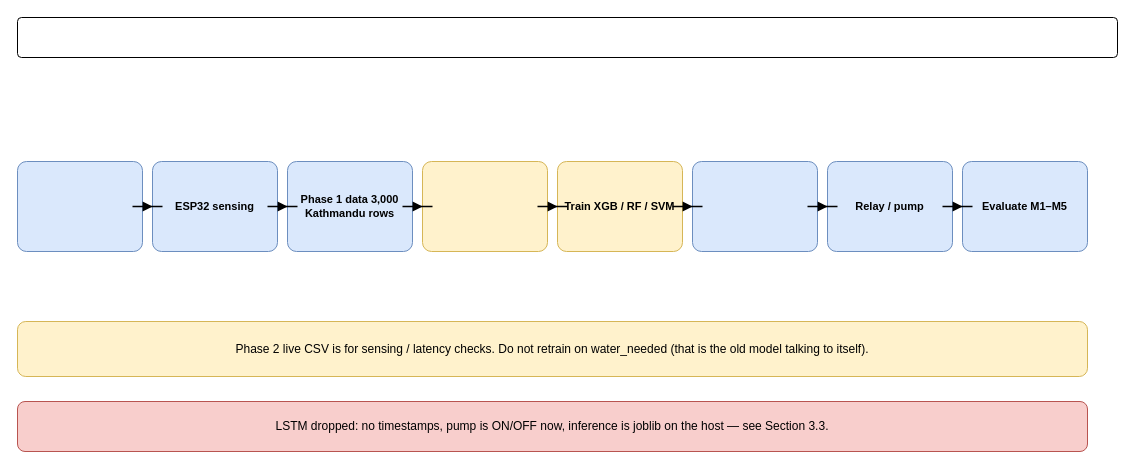
Image size: 1135x469. Some labels were removed from this diagram. The shapes that lost their labels are listed below. From the top down, each one's centre as x and y in pixels, then its label:
the point at 567,37: Figure 1 — Methodology workflow (Section 4.1)
the point at 79,206: Problem calendar watering
the point at 485,206: FAO-56 tomato labels
the point at 755,206: FastAPI POST /predict
